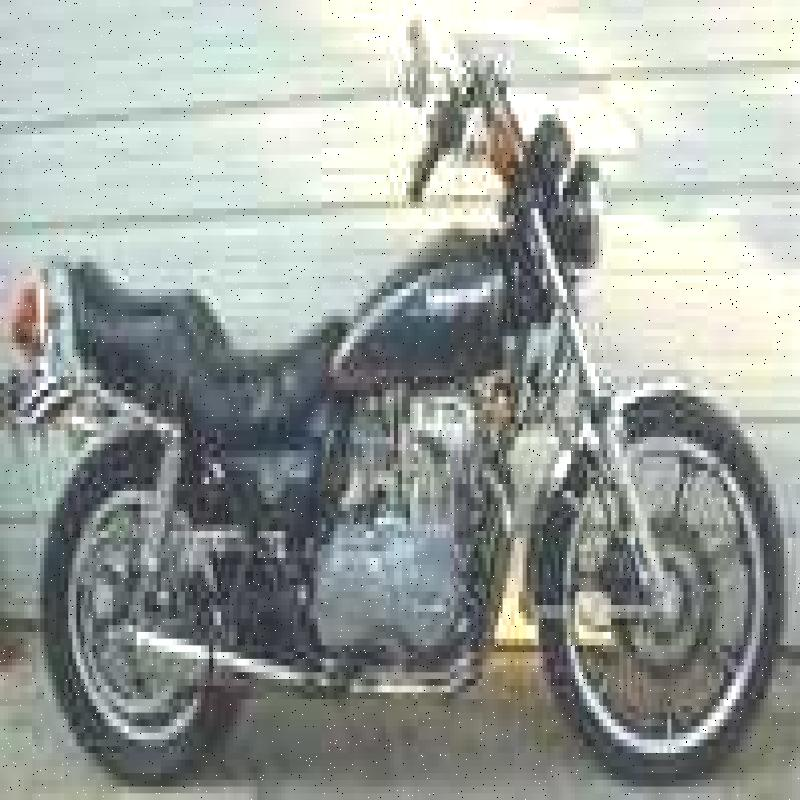bike: (11, 10, 784, 800)
